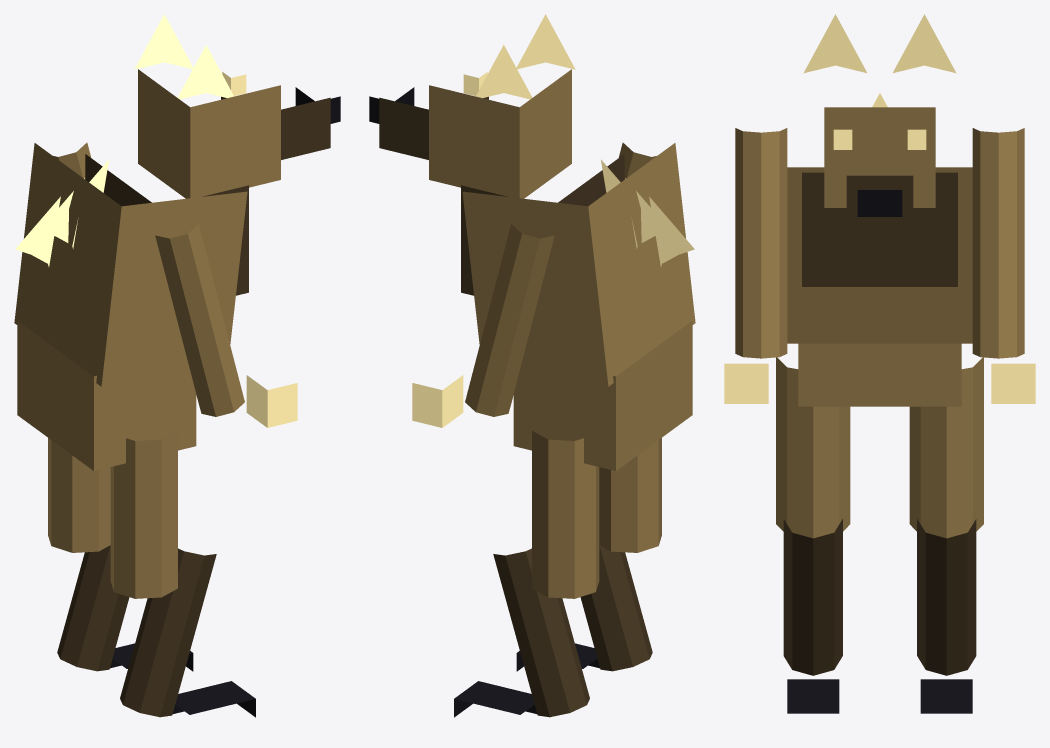
File: gnoll.glb
3 renders of one model, left to right at view 1: azimuth 30°, elevation 25°; view 2: azimuth 150°, elevation 25°; view 3: azimuth 270°, elevation 25°, orthographic. The views are drawn at different scales.
Visible parts, largest first — view 1: gnoll-torso, gnoll-hips, gnoll-head, gnoll-thigh-l, gnoll-arm-l, gnoll-shin-l, gnoll-thigh-r, gnoll-shin-r, gnoll-snout, gnoll-chest, gnoll-claw-l, gnoll-paw-l (+6 smaller); view 2: gnoll-torso, gnoll-hips, gnoll-head, gnoll-thigh-r, gnoll-arm-r, gnoll-shin-r, gnoll-thigh-l, gnoll-shin-l, gnoll-snout, gnoll-chest, gnoll-claw-r, gnoll-paw-r (+6 smaller); view 3: gnoll-torso, gnoll-chest, gnoll-arm-l, gnoll-arm-r, gnoll-hips, gnoll-thigh-l, gnoll-thigh-r, gnoll-head, gnoll-shin-l, gnoll-shin-r, gnoll-snout, gnoll-paw-l (+6 smaller).
Boxes of the visible parts, x1,y1,x2,y2 form: gnoll-torso: [14, 143, 247, 386]; gnoll-hips: [17, 320, 196, 470]; gnoll-head: [138, 69, 280, 198]; gnoll-thigh-l: [110, 431, 177, 598]; gnoll-arm-l: [154, 224, 244, 416]; gnoll-shin-l: [120, 548, 216, 717]; gnoll-thigh-r: [48, 438, 110, 552]; gnoll-shin-r: [57, 545, 129, 671]; gnoll-snout: [221, 96, 330, 159]; gnoll-chest: [85, 154, 248, 295]; gnoll-claw-l: [246, 375, 297, 427]; gnoll-paw-l: [172, 681, 255, 717]; gnoll-torso: [462, 143, 695, 386]; gnoll-hips: [513, 320, 692, 470]; gnoll-head: [429, 69, 571, 198]; gnoll-thigh-r: [532, 431, 599, 598]; gnoll-arm-r: [465, 224, 555, 416]; gnoll-shin-r: [493, 548, 589, 717]; gnoll-thigh-l: [599, 438, 661, 552]; gnoll-shin-l: [580, 545, 652, 671]; gnoll-snout: [379, 96, 488, 159]; gnoll-chest: [461, 154, 624, 295]; gnoll-claw-r: [412, 375, 463, 427]; gnoll-paw-r: [454, 681, 537, 717]; gnoll-torso: [787, 167, 972, 343]; gnoll-chest: [802, 172, 957, 286]; gnoll-arm-l: [735, 128, 787, 358]; gnoll-arm-r: [972, 128, 1024, 358]; gnoll-hips: [798, 343, 961, 406]; gnoll-thigh-l: [776, 357, 850, 538]; gnoll-thigh-r: [909, 357, 983, 538]; gnoll-head: [824, 107, 935, 207]; gnoll-shin-l: [783, 519, 842, 675]; gnoll-shin-r: [917, 519, 976, 675]; gnoll-snout: [846, 175, 913, 229]; gnoll-paw-l: [787, 679, 839, 713].
Bounding box in the file's own units: 1.04 × 2.1 × 0.84.
